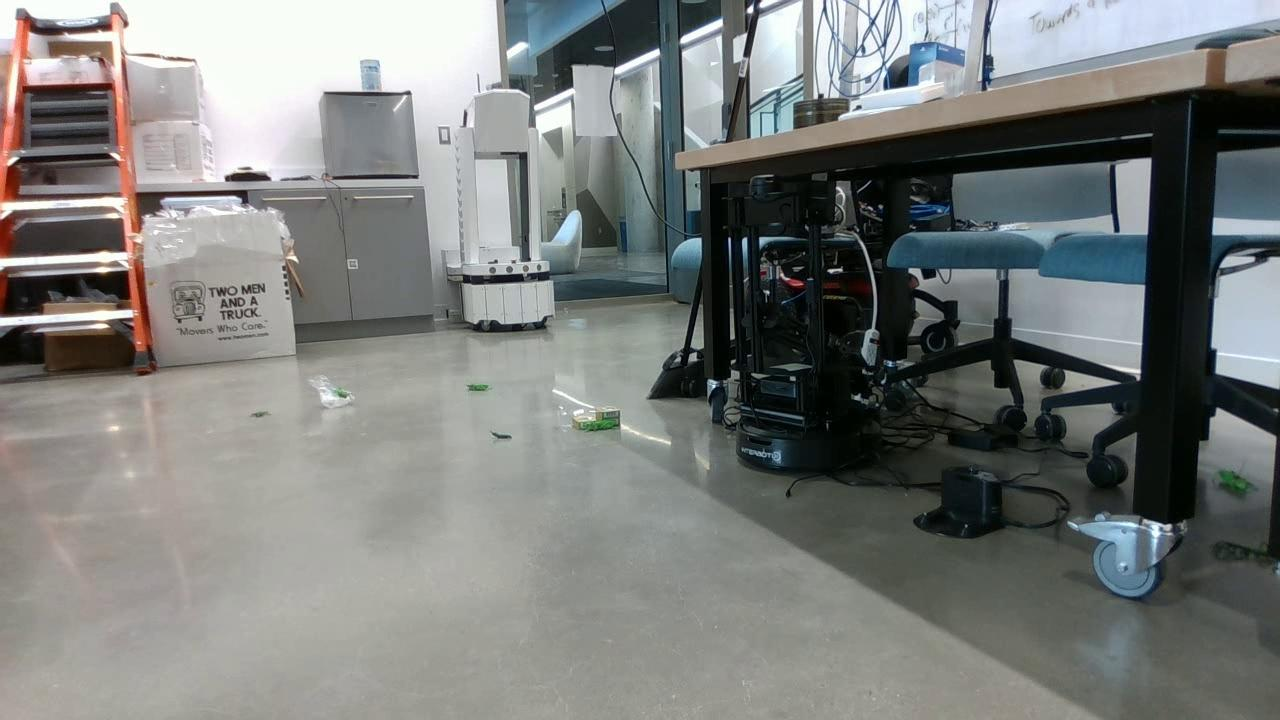grasshopper: (1211, 468, 1257, 500), (576, 418, 614, 430), (465, 381, 491, 390), (332, 389, 352, 399)
